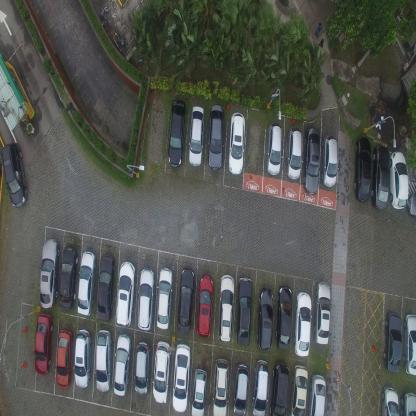car: (1, 141, 28, 208), (38, 235, 60, 310), (75, 249, 96, 318), (171, 340, 191, 412), (114, 260, 135, 328), (235, 274, 254, 346), (302, 124, 321, 196), (95, 252, 114, 323), (58, 245, 78, 312), (370, 144, 390, 211), (167, 96, 186, 166), (112, 332, 132, 397), (217, 272, 235, 344), (293, 290, 312, 358), (352, 136, 371, 204), (136, 265, 155, 332), (207, 101, 225, 170), (176, 266, 194, 334), (228, 108, 246, 175), (313, 279, 331, 346), (152, 341, 171, 404), (383, 311, 402, 374), (389, 151, 409, 210), (155, 266, 173, 331), (196, 273, 214, 338), (95, 327, 113, 392), (275, 284, 292, 352), (268, 360, 289, 415), (256, 287, 274, 351), (211, 356, 230, 416), (74, 326, 92, 389), (34, 312, 52, 374), (251, 358, 270, 415), (56, 327, 73, 388), (188, 102, 204, 166), (133, 338, 150, 398), (285, 124, 303, 180), (320, 132, 338, 188), (289, 364, 308, 416), (233, 362, 250, 415), (266, 120, 282, 176), (402, 313, 416, 376), (191, 366, 208, 415), (308, 373, 326, 415), (380, 384, 400, 416), (400, 389, 416, 415)
